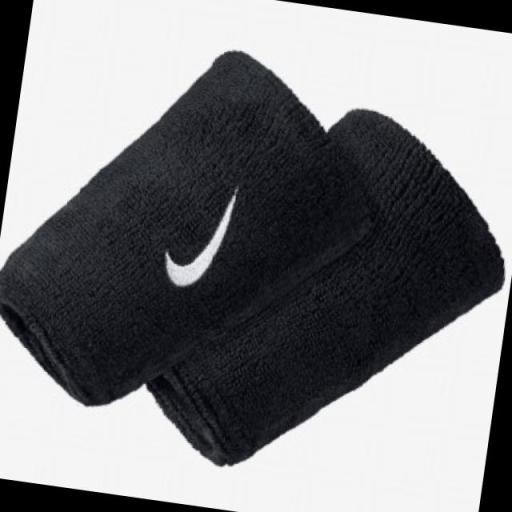Nike: (151, 172, 252, 301)
